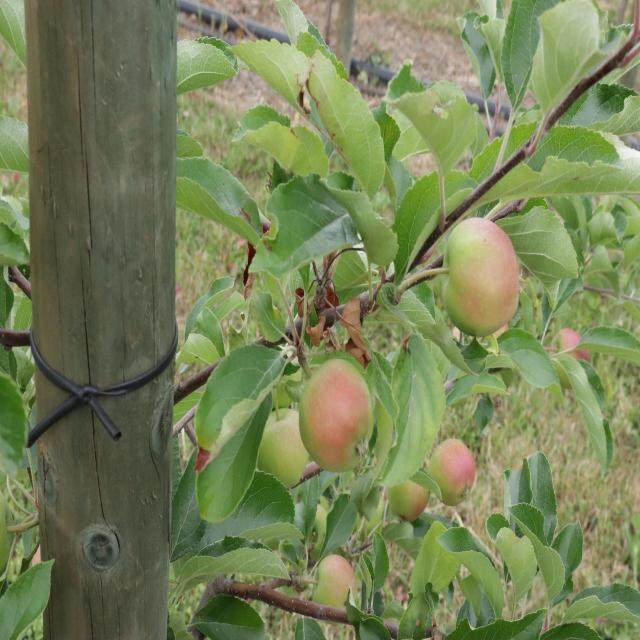-FireBlight-: (290, 257, 374, 361)
